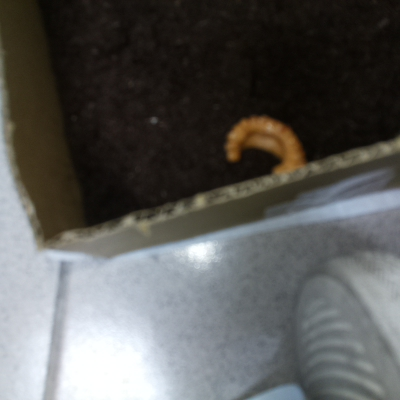eggs: (219, 108, 308, 182)
